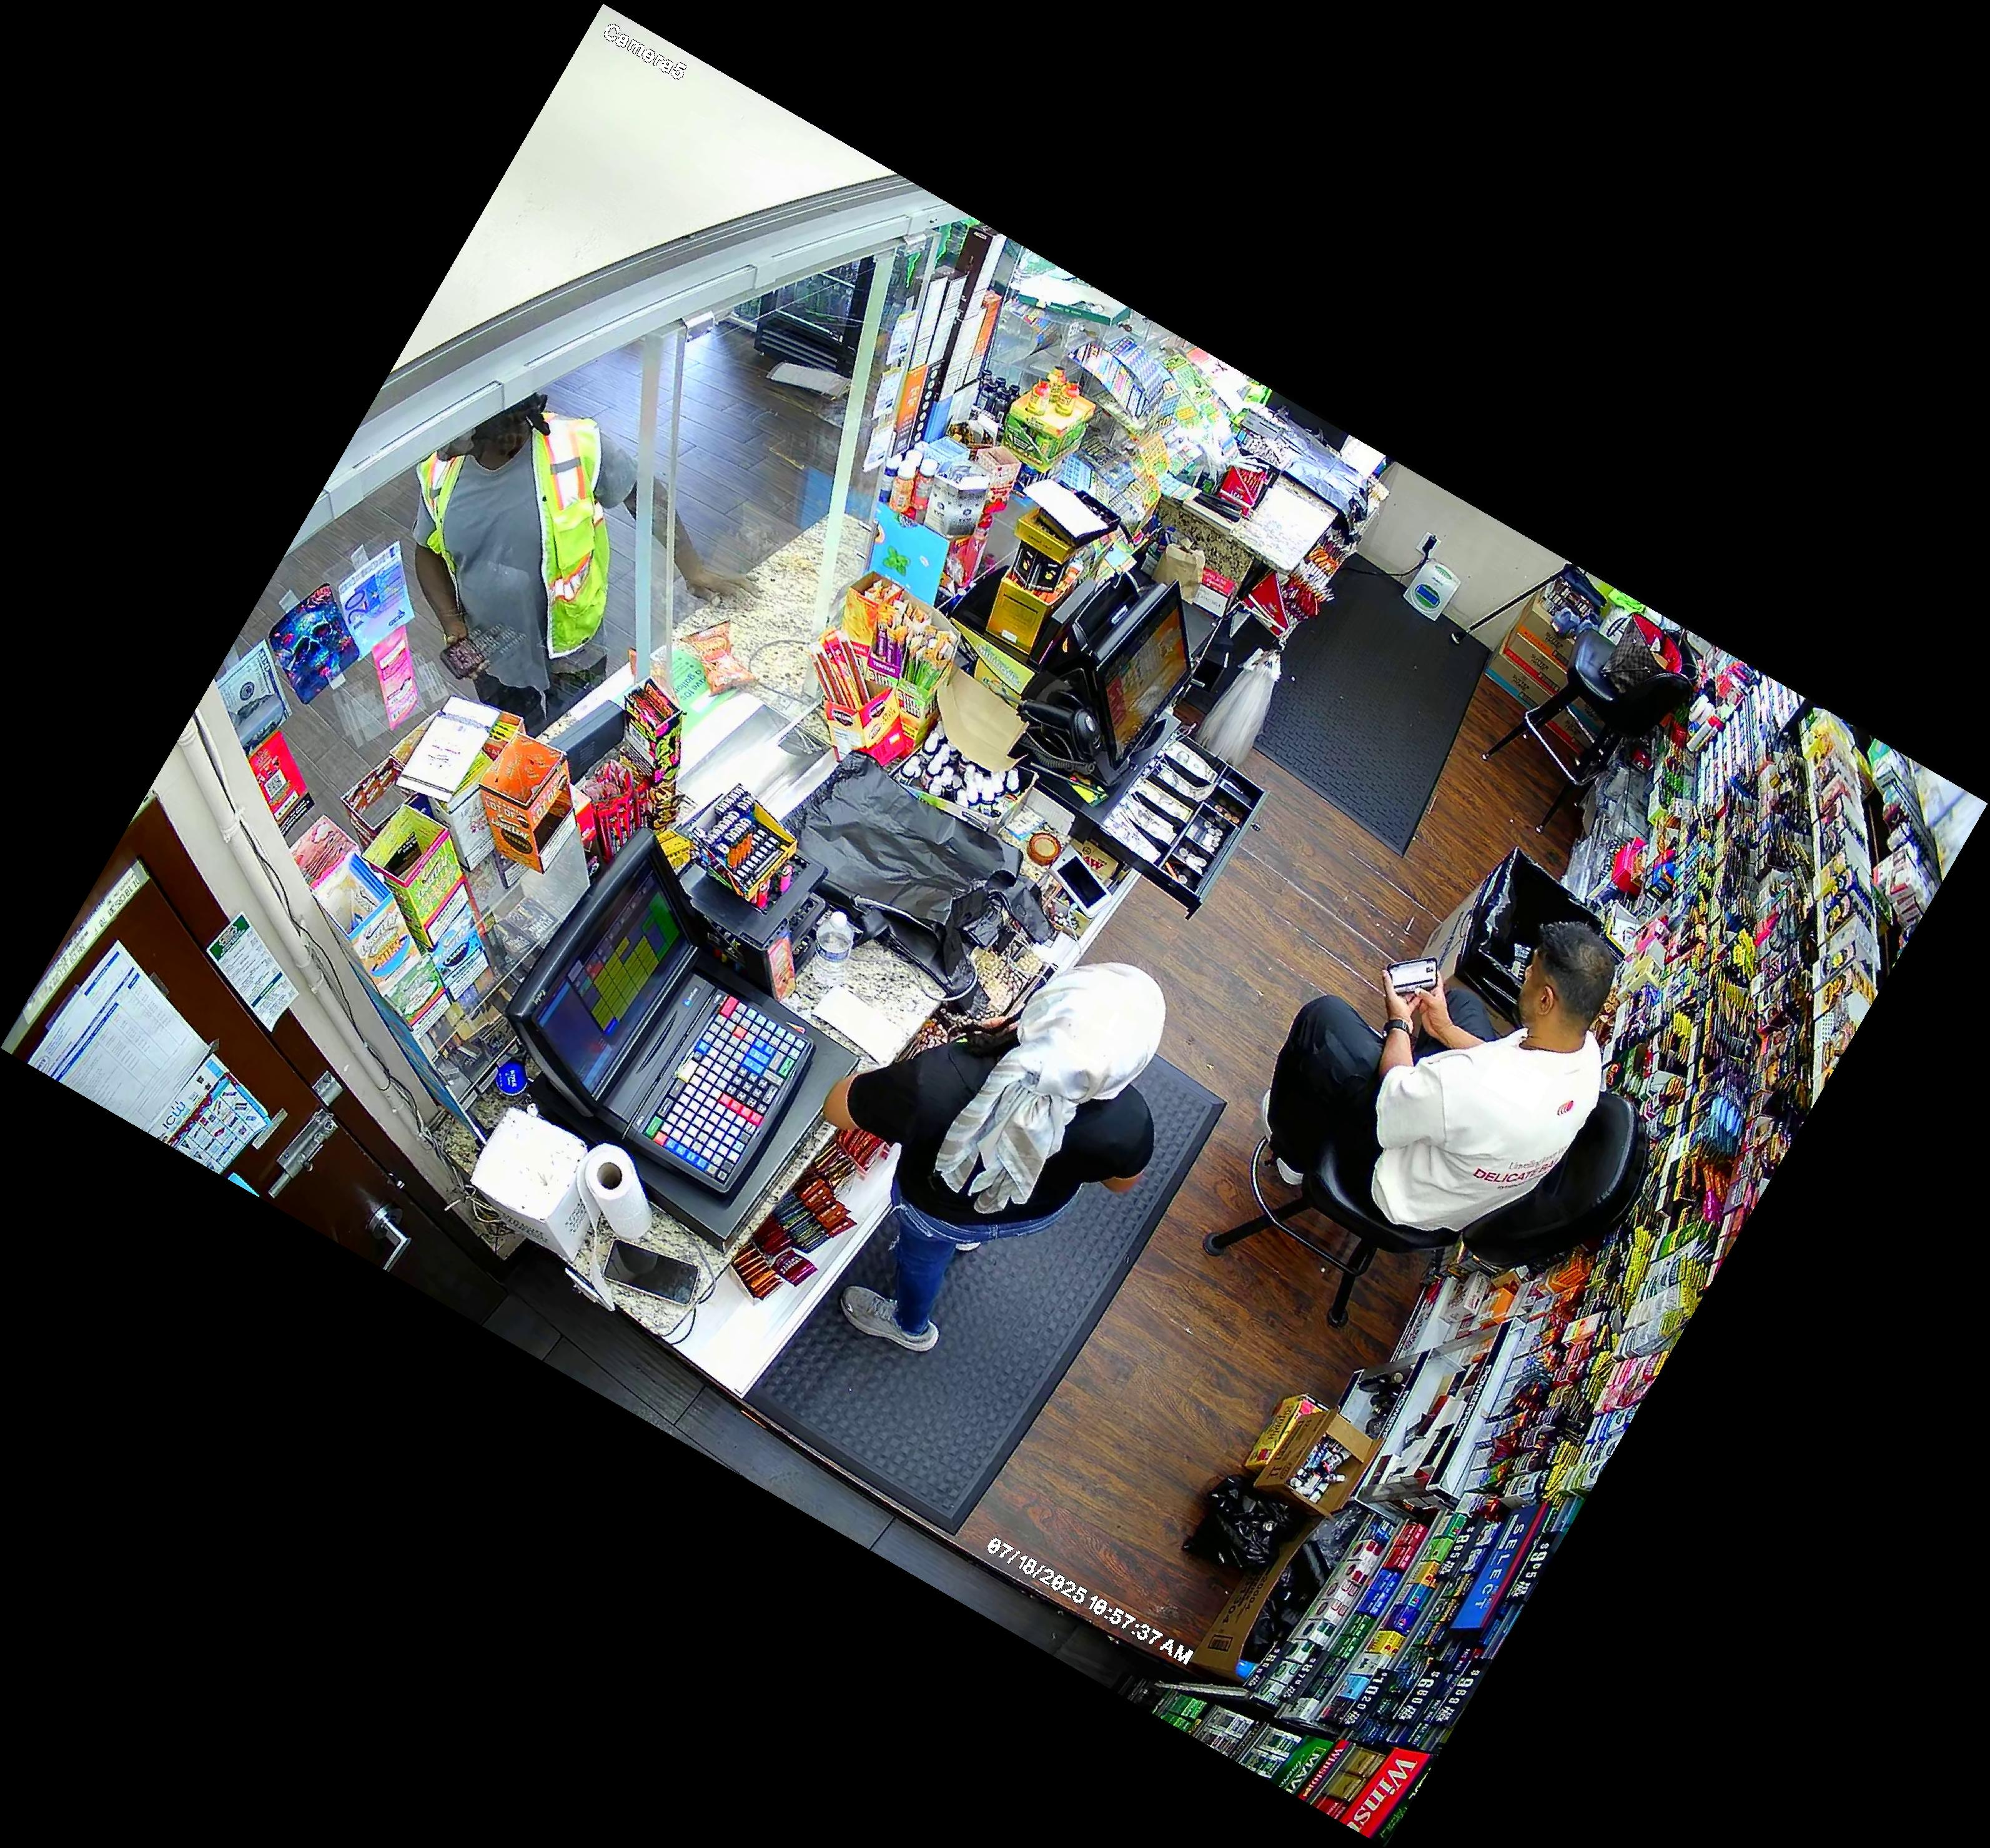phone: (424, 625, 498, 684), (1377, 948, 1448, 1002)
